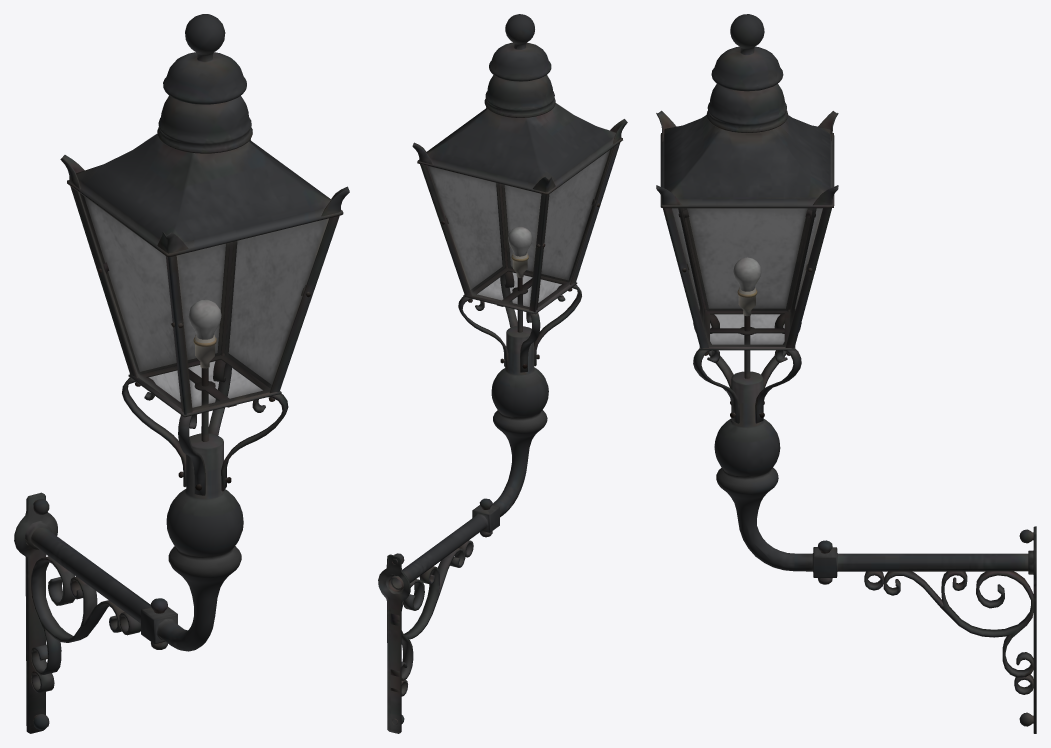
Rendered from street_lamp_02.glb.
The picture shows the model from 3 angles, left to right: view 1: azimuth 30°, elevation 25°; view 2: azimuth 150°, elevation 25°; view 3: azimuth 270°, elevation 25°; orthographic projection. The views are drawn at different scales.
Parts seen in each view (by area): view 1: street_lamp_02; view 2: street_lamp_02; view 3: street_lamp_02.
Boxes of the visible parts, box(x1,y1,x2,y2) form: street_lamp_02: box(14, 14, 349, 733); street_lamp_02: box(378, 14, 627, 733); street_lamp_02: box(656, 14, 1036, 733).
Bounding box in the file's own units: 0.3866 × 1.67 × 0.8068.
3 materials, 3 textured.
